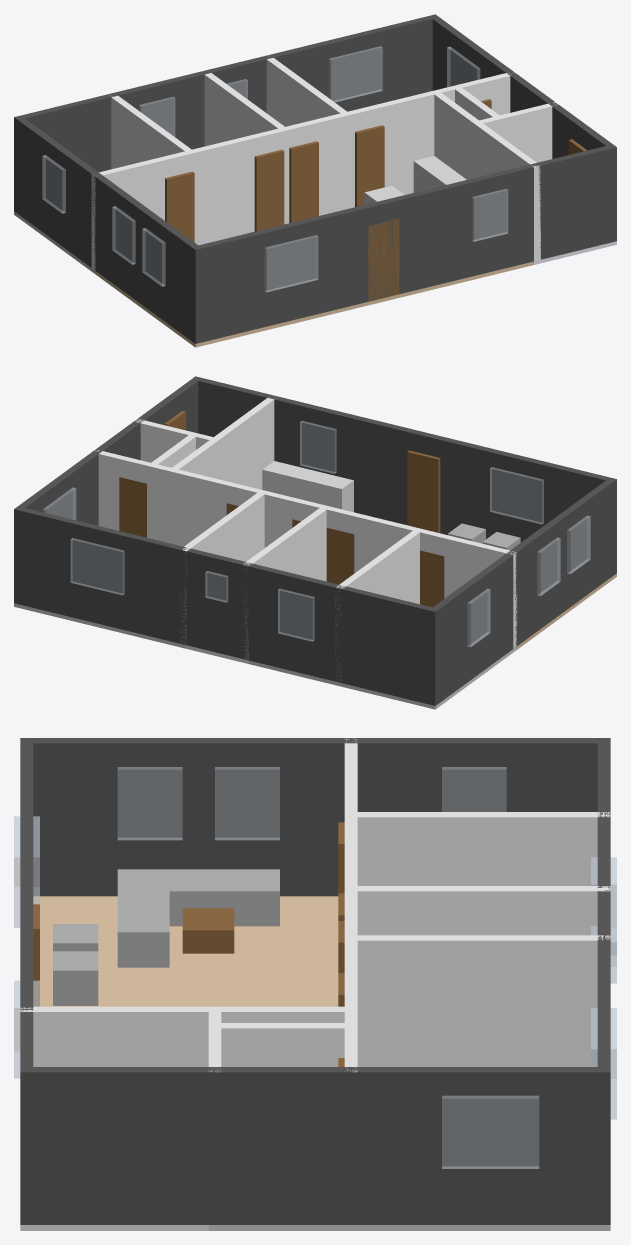
File: 3d_floor_plan_2.glb
3 views of the same model, one above another, from view 1: azimuth 30°, elevation 25°; view 2: azimuth 150°, elevation 25°; view 3: azimuth 270°, elevation 25° (orthographic). The views are drawn at different scales.
Visible parts, largest first — view 1: 3D_Architectural_Floor_Plan_2; view 2: 3D_Architectural_Floor_Plan_2; view 3: 3D_Architectural_Floor_Plan_2.
Boxes of the visible parts, x1,y1,x2,y2 form: 3D_Architectural_Floor_Plan_2: (14,14,616,347); 3D_Architectural_Floor_Plan_2: (14,376,616,709); 3D_Architectural_Floor_Plan_2: (14,738,616,1230).
Size of the model in its own units: 12.4 by 2.7 by 9.3.
